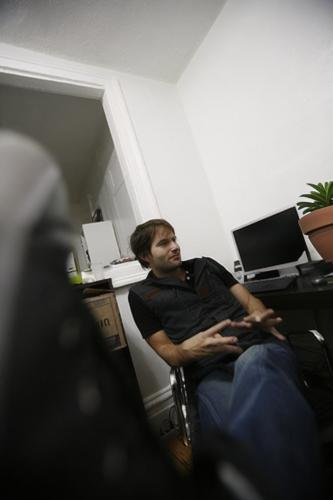person: (129, 220, 320, 475)
person/hand: (184, 320, 241, 356), (229, 309, 287, 341)
person/head: (129, 218, 181, 269)
pottedplant: (298, 182, 333, 261)
tvmonitor: (231, 206, 317, 277)
